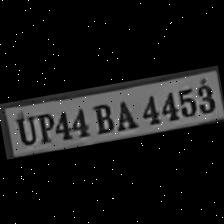3: (194, 80, 216, 116)
4: (63, 102, 91, 140), (134, 89, 162, 126), (50, 106, 73, 142), (155, 86, 178, 122)
5: (174, 83, 196, 119)
A: (109, 94, 138, 132)
B: (86, 98, 114, 134)
P: (31, 110, 54, 146)
U: (10, 111, 37, 146)
